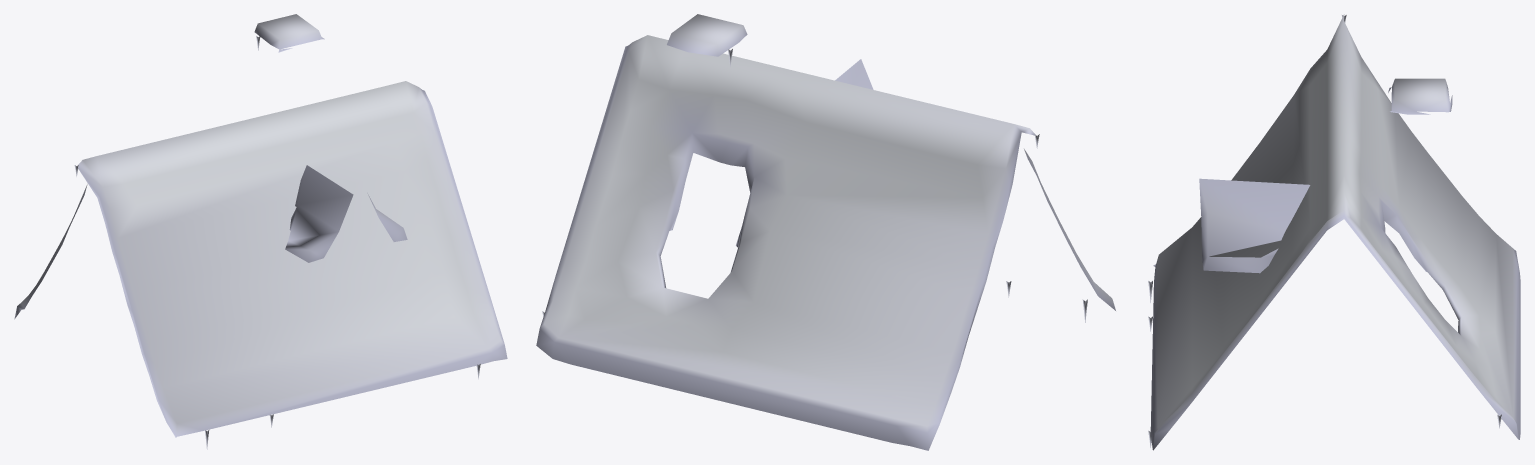
The model's file is category.other.s.snow.glb.
3 views of the same model, side by side, from view 1: azimuth 30°, elevation 25°; view 2: azimuth 150°, elevation 25°; view 3: azimuth 270°, elevation 25° (orthographic). The views are drawn at different scales.
Parts seen in each view (by area): view 1: snow, tier.2; view 2: snow, tier.2; view 3: snow, tier.2.
Boxes of the visible parts, <box> form: snow: <box>14,14,507,449</box>; tier.2: <box>285,165,407,262</box>; snow: <box>536,14,1115,450</box>; tier.2: <box>835,59,873,89</box>; snow: <box>1148,14,1520,450</box>; tier.2: <box>1199,178,1310,273</box>.
Size of the model in its own units: 3.53 by 2.77 by 2.87.
